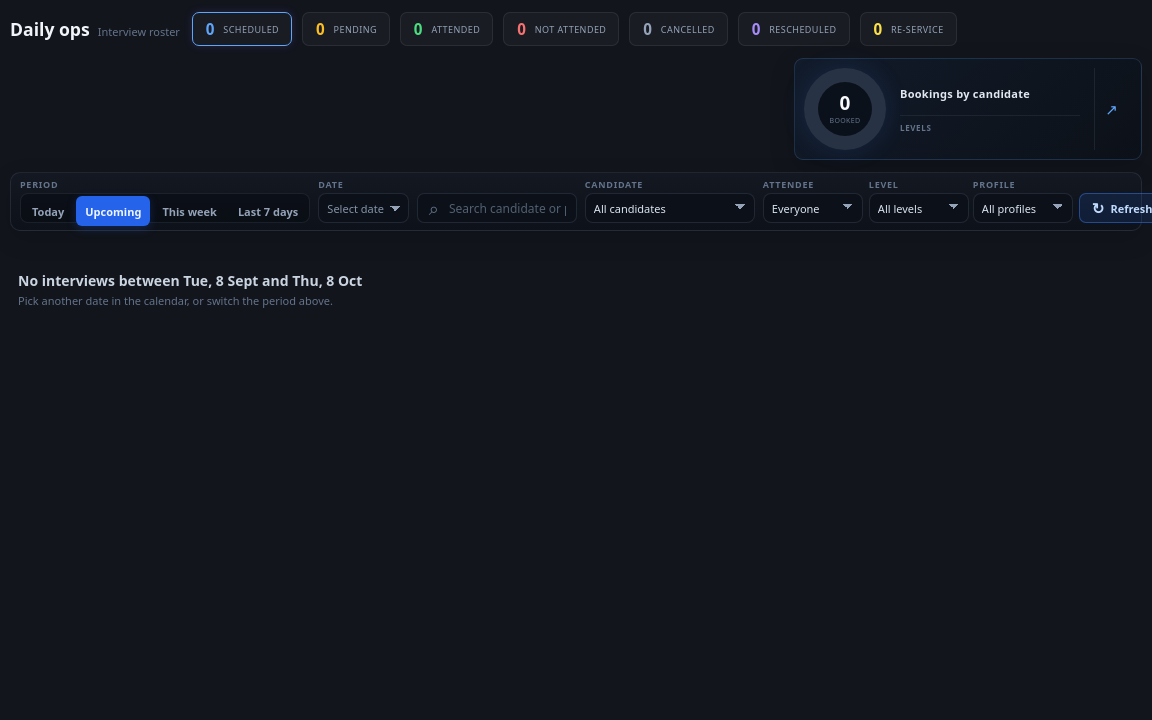
Test: the date control replaces the month dropdown › offers Today, Yesterday and Tomorrow
What coordinates should you click on to do the following:
click the button with aria-label "Filter interviews by date"
I would click on:
 (364, 208)
Its box is [318,193,409,223].
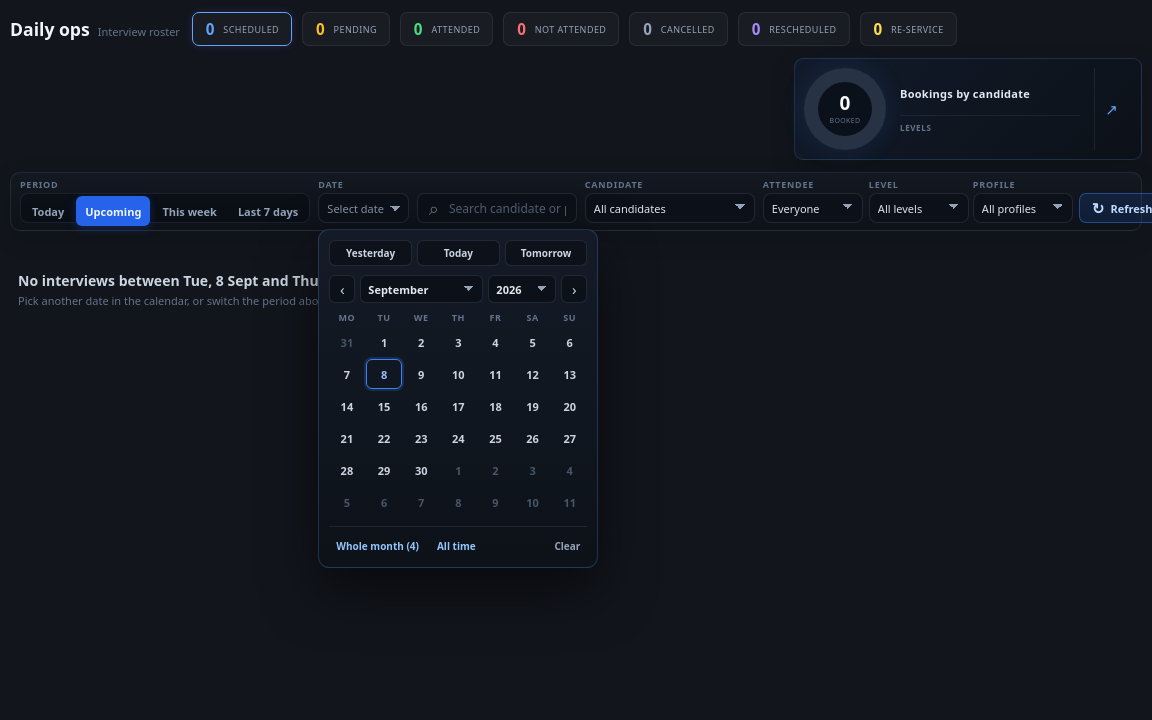
Now the button "Yesterday" is shown, box [329,240,412,266]
Now the button "Today" is shown, box [417,240,500,266]
Now the button "Tomorrow" is shown, box [505,240,587,266]
